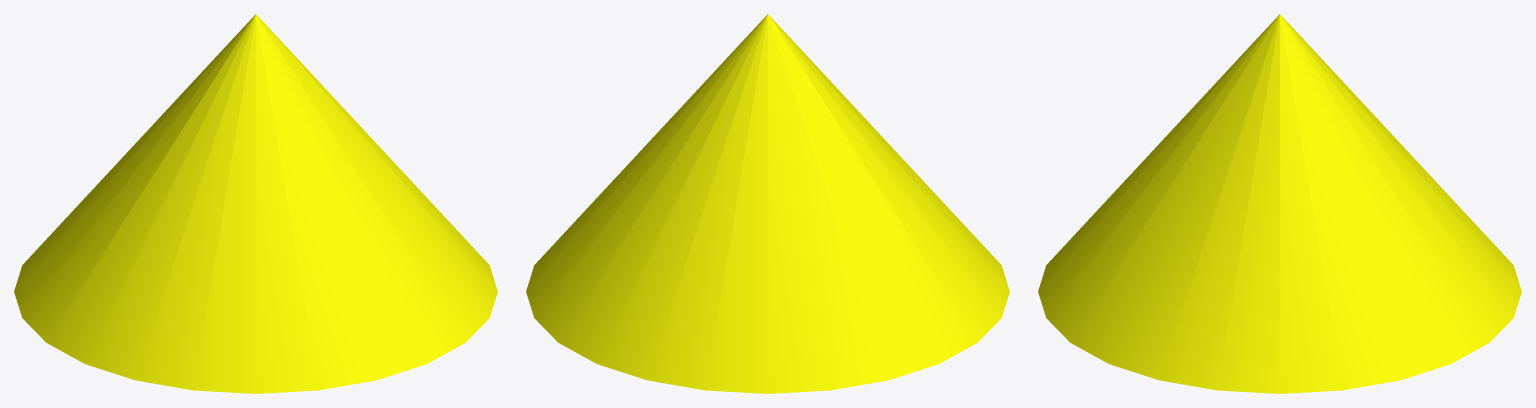
The model's file is cone jaune.dae.
3 renders of one model, left to right at view 1: azimuth 30°, elevation 25°; view 2: azimuth 150°, elevation 25°; view 3: azimuth 270°, elevation 25°, orthographic.
Visible parts, largest first — view 1: SketchUp; view 2: SketchUp; view 3: SketchUp.
Boxes of the visible parts, <box> form: SketchUp: <box>14,14,497,393</box>; SketchUp: <box>526,14,1009,393</box>; SketchUp: <box>1038,14,1521,393</box>.
Size of the model in its own units: 9266 by 9266 by 5866.
